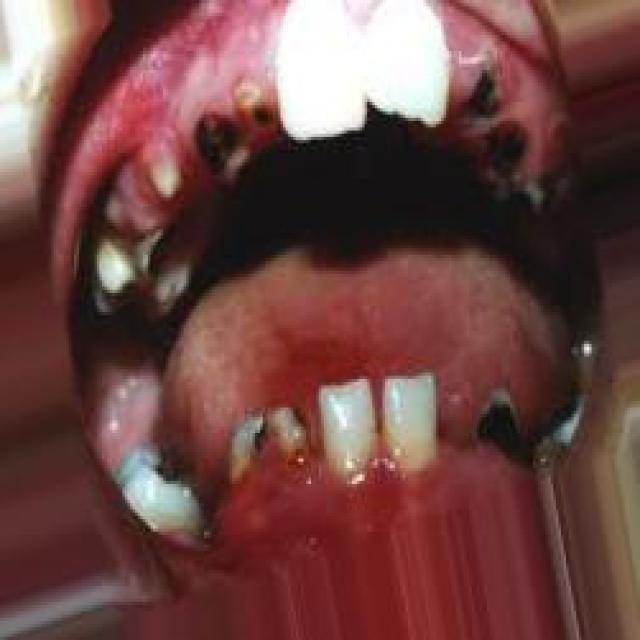caries: (473, 376, 530, 460), (195, 109, 254, 187), (473, 110, 527, 174), (453, 59, 507, 122), (264, 398, 314, 464), (222, 408, 265, 481), (136, 222, 178, 291), (235, 73, 272, 133), (512, 173, 562, 216)
